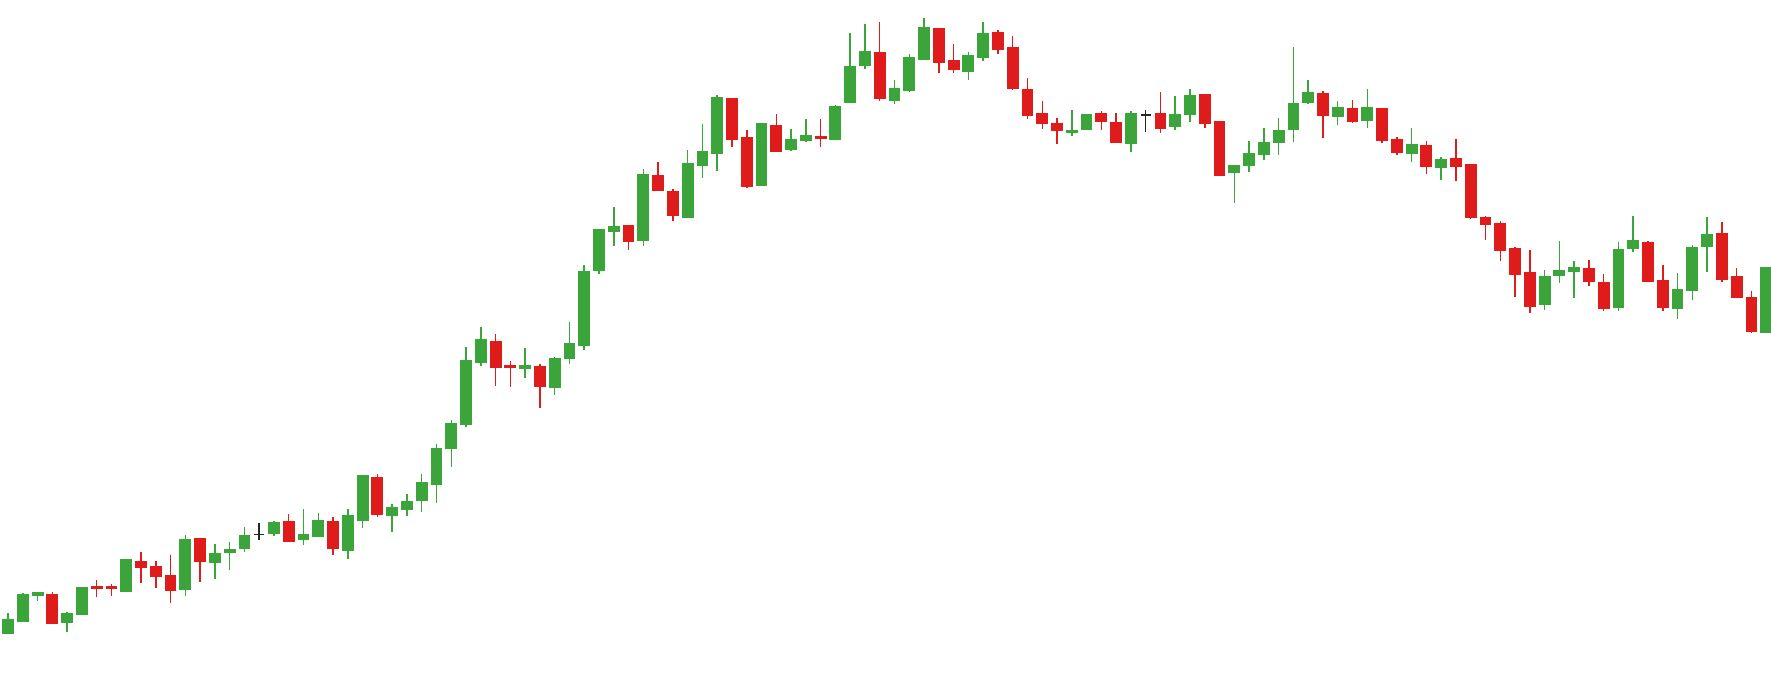sell: (1153, 43, 1302, 151), (1553, 217, 1640, 279)
